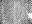person: (27, 15, 31, 20)
